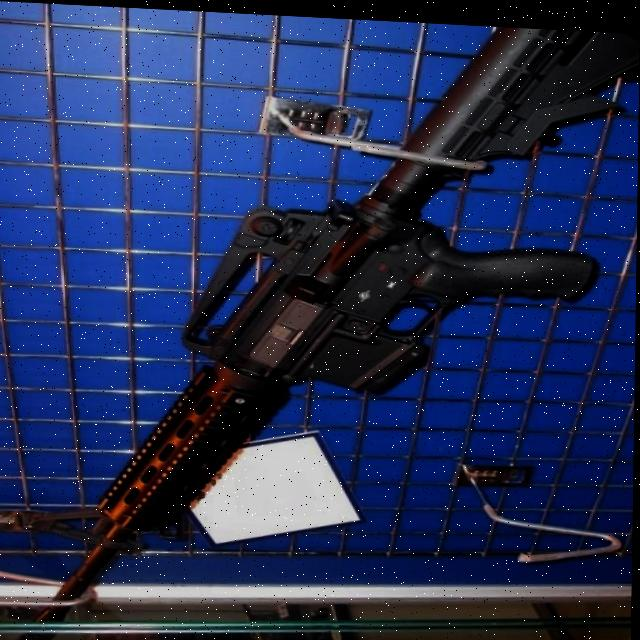firearm: (14, 1, 640, 640)
